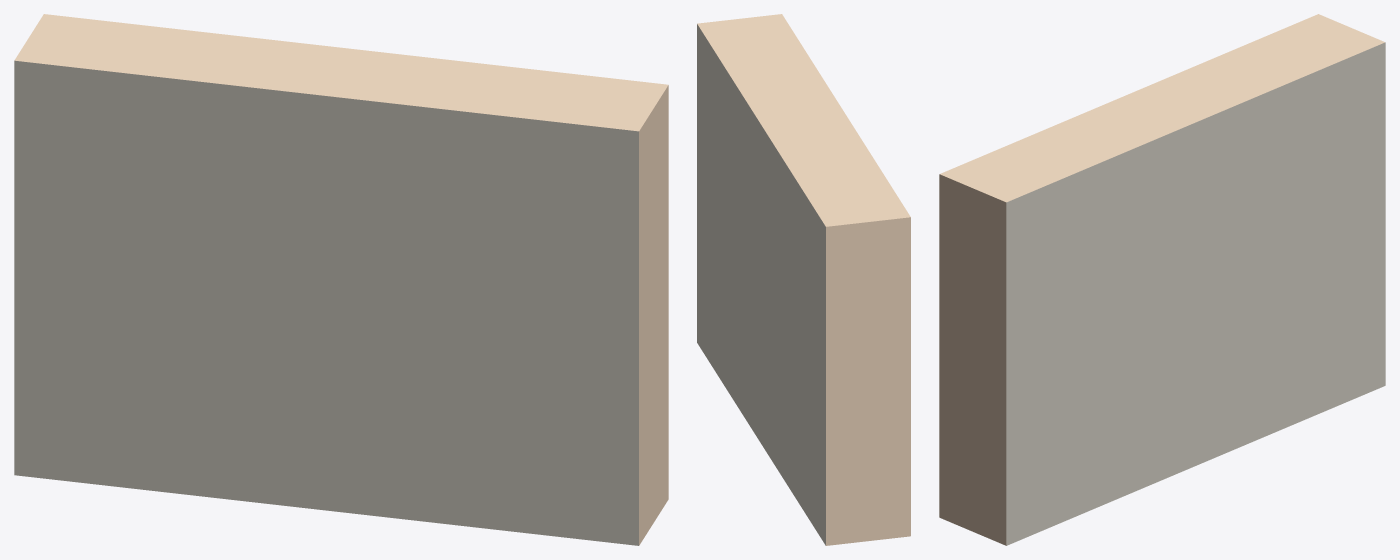
Rendered from Tiered_Retaining_Wall_45_Degrees_Straight_2x2_Mid.glb.
The picture shows the model from 3 angles, left to right: view 1: azimuth 30°, elevation 25°; view 2: azimuth 150°, elevation 25°; view 3: azimuth 270°, elevation 25°; orthographic projection. The views are drawn at different scales.
Visible parts, largest first — view 1: Tiered_Retaining_Wall_45_Degrees_Straight_2x2_Mid; view 2: Tiered_Retaining_Wall_45_Degrees_Straight_2x2_Mid; view 3: Tiered_Retaining_Wall_45_Degrees_Straight_2x2_Mid.
Part boxes in pixels (left/top/right/bottom): Tiered_Retaining_Wall_45_Degrees_Straight_2x2_Mid: left=14, top=14, right=668, bottom=545; Tiered_Retaining_Wall_45_Degrees_Straight_2x2_Mid: left=697, top=14, right=910, bottom=545; Tiered_Retaining_Wall_45_Degrees_Straight_2x2_Mid: left=939, top=14, right=1385, bottom=545.
Size of the model in its own units: 118 by 100 by 118.
